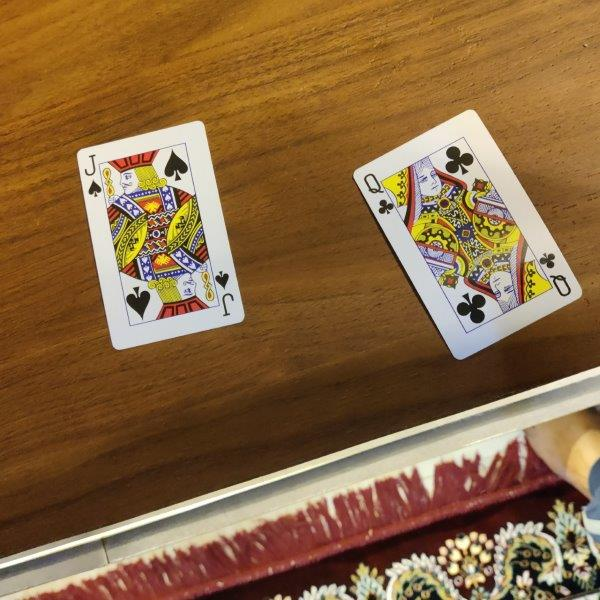Jack of Spades: (77, 120, 246, 350)
Queen of Clubs: (353, 109, 583, 361)
